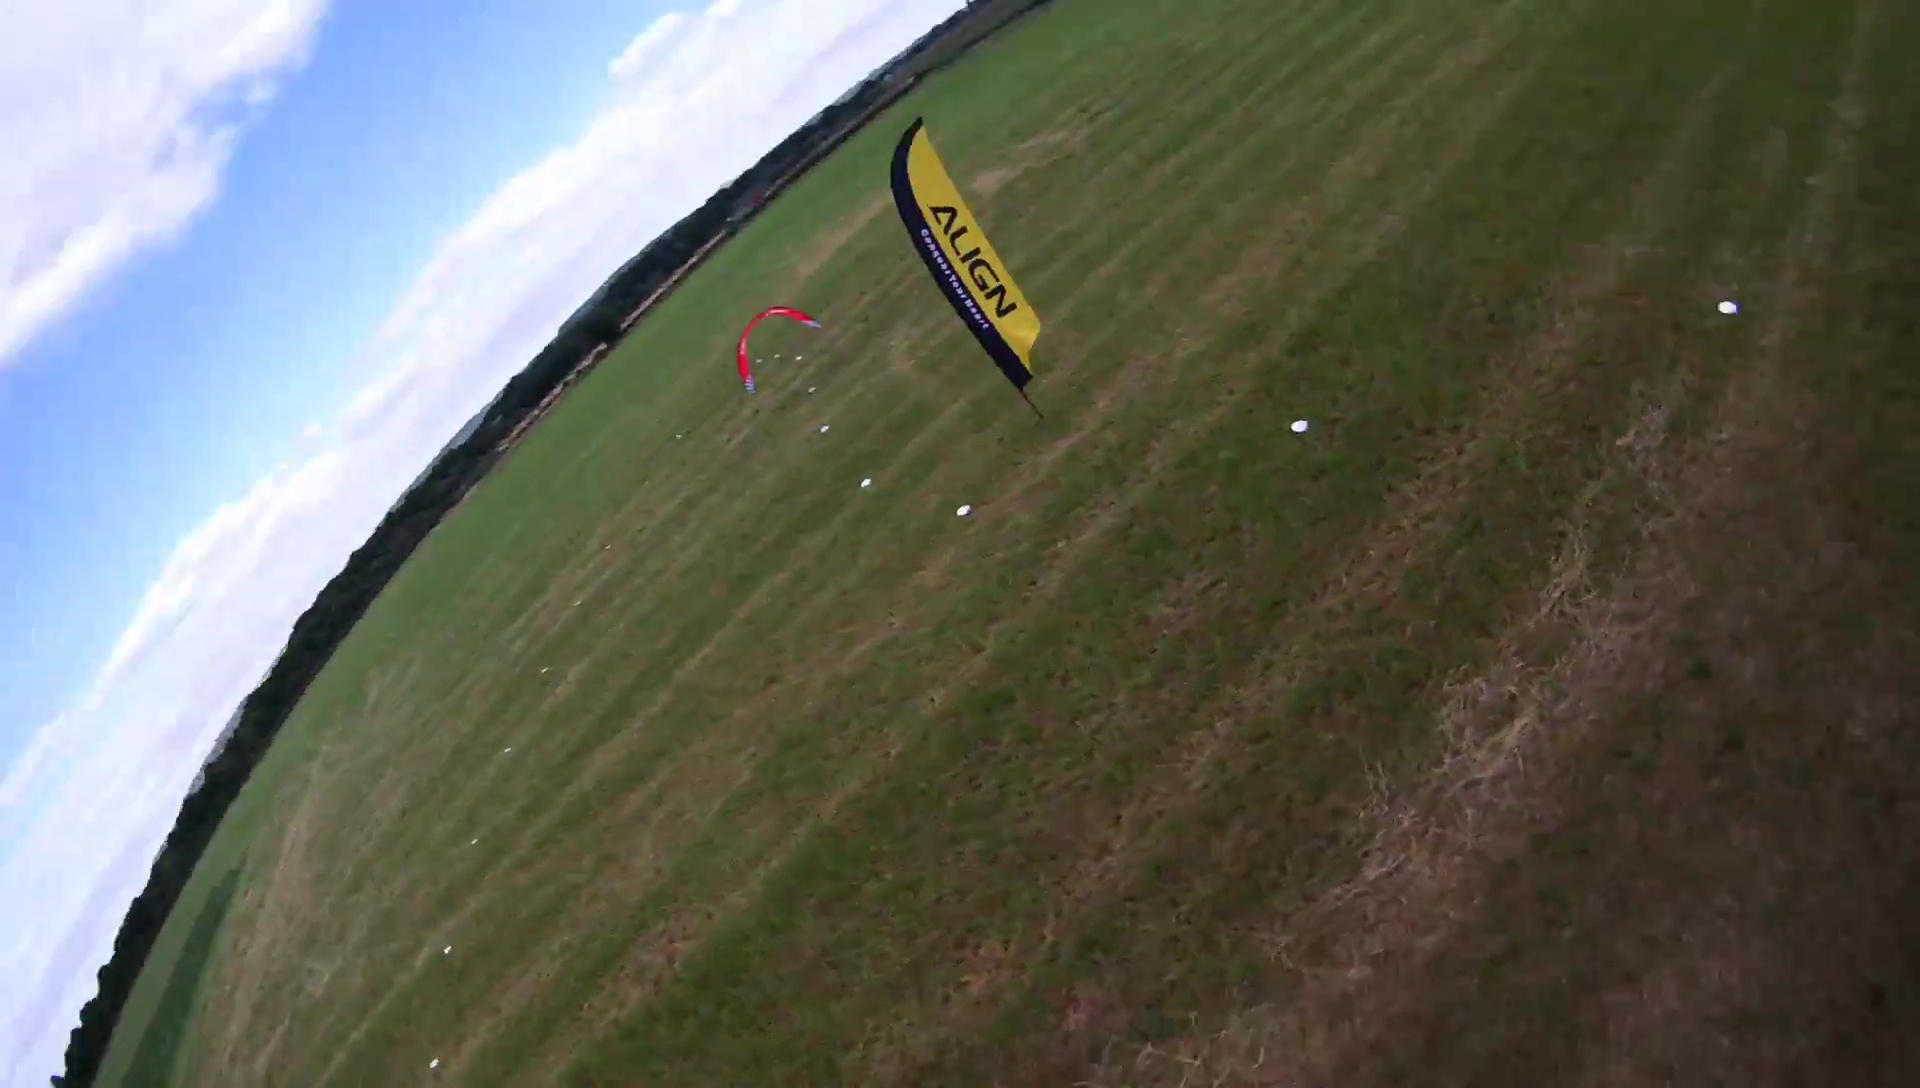gate: (735, 306, 822, 392)
